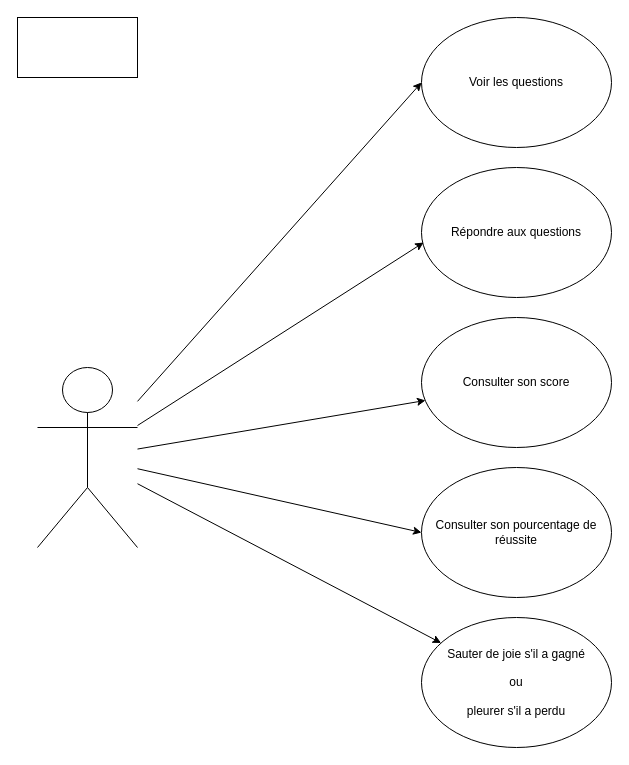
The diagram is 629 pixels wide and 765 high, and some of its shapes have lost their labels. Each missing label, with the centre of its shape:
"use case" belongs at (77,47).
"Utilisateur" belongs at (87,457).
